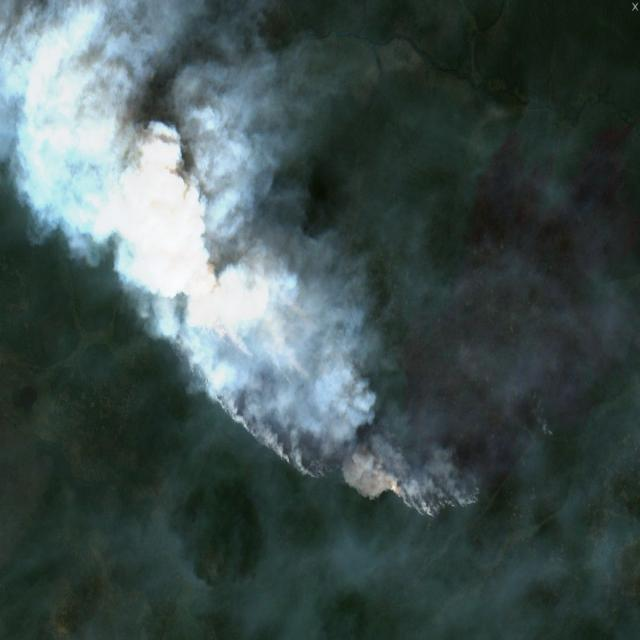fire: (168, 276, 480, 526)
